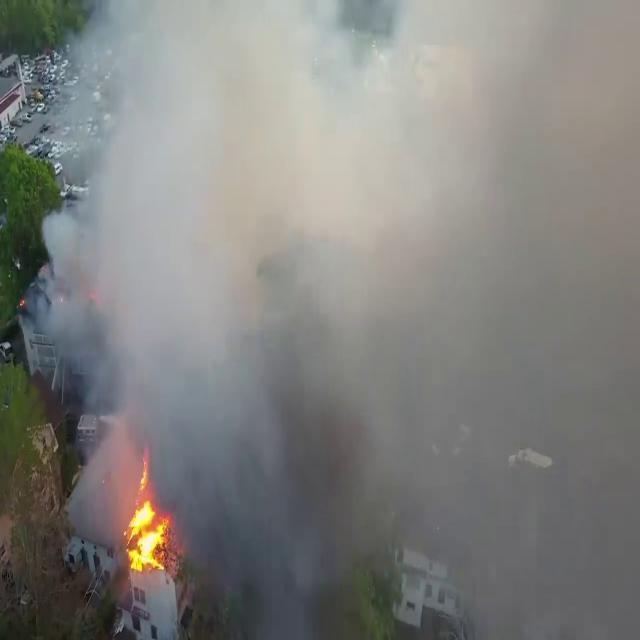Fire: (120, 477, 177, 578)
Smoke: (31, 0, 638, 636)
